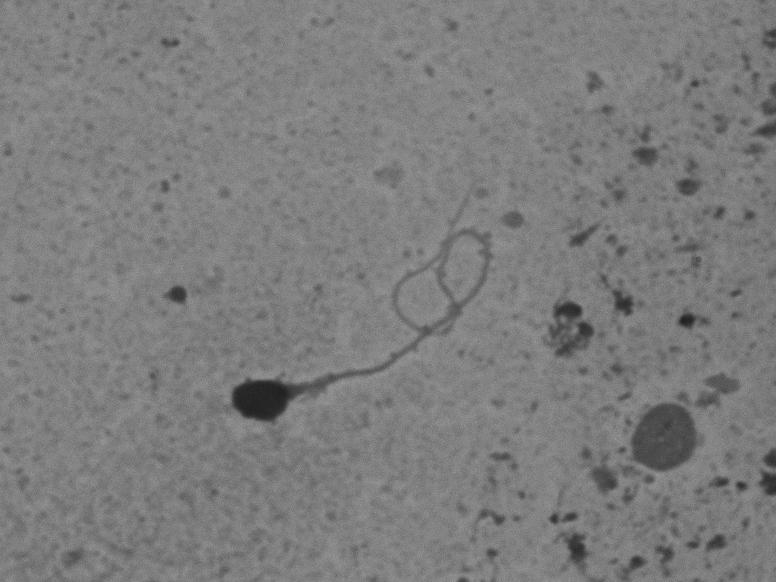Abnormal: (214, 183, 516, 467)
